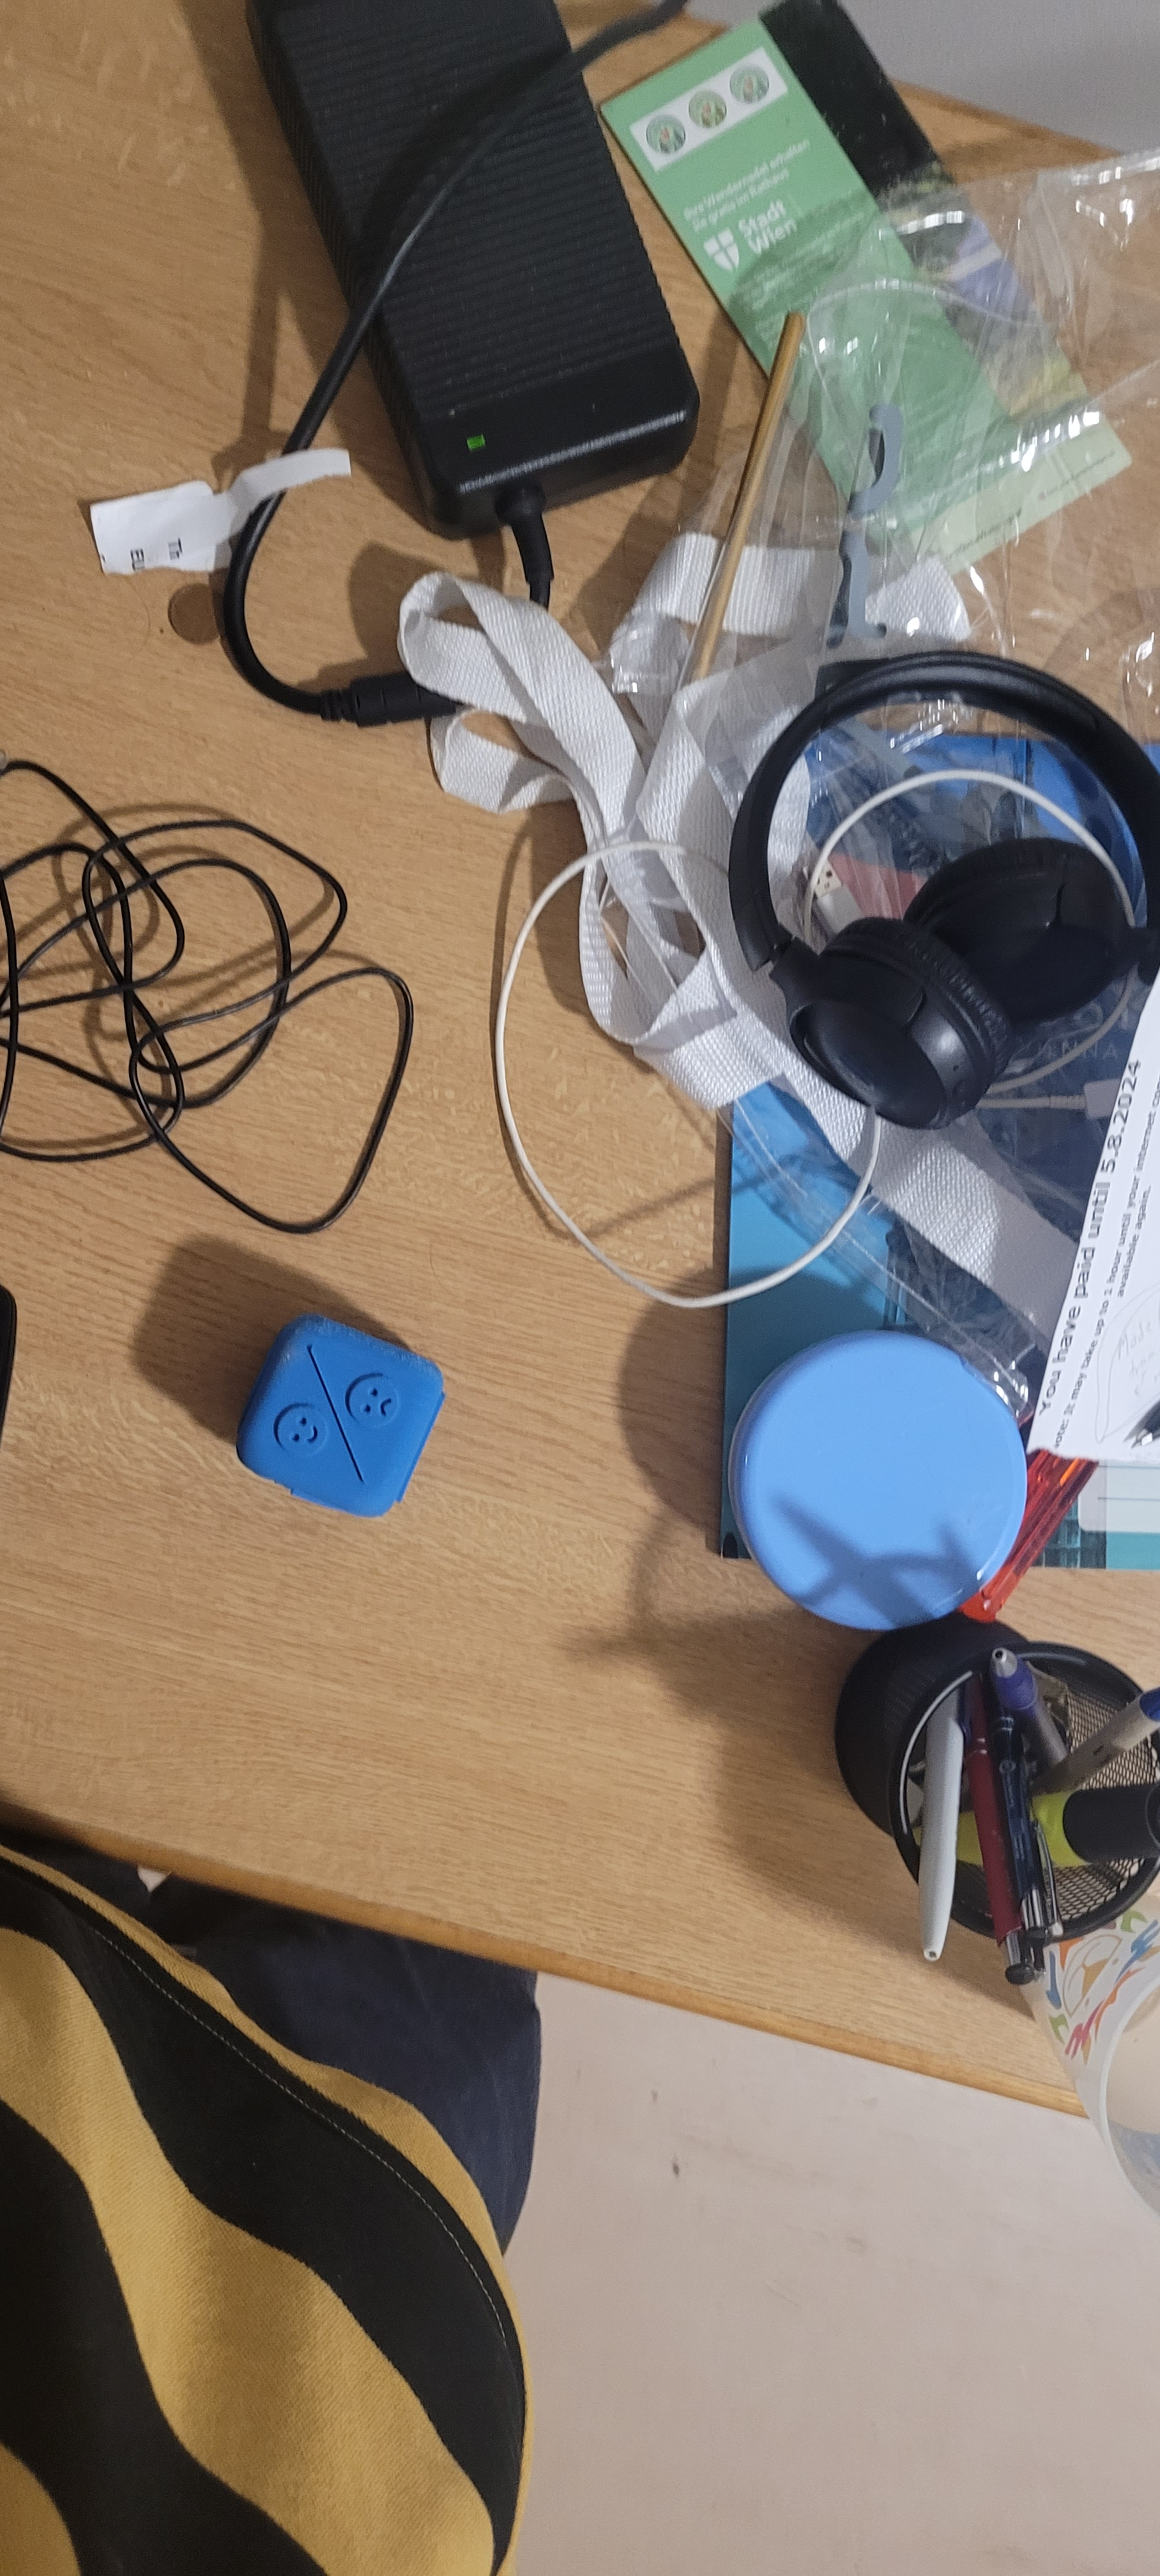Like/Dislike: (268, 1350, 414, 1497)
